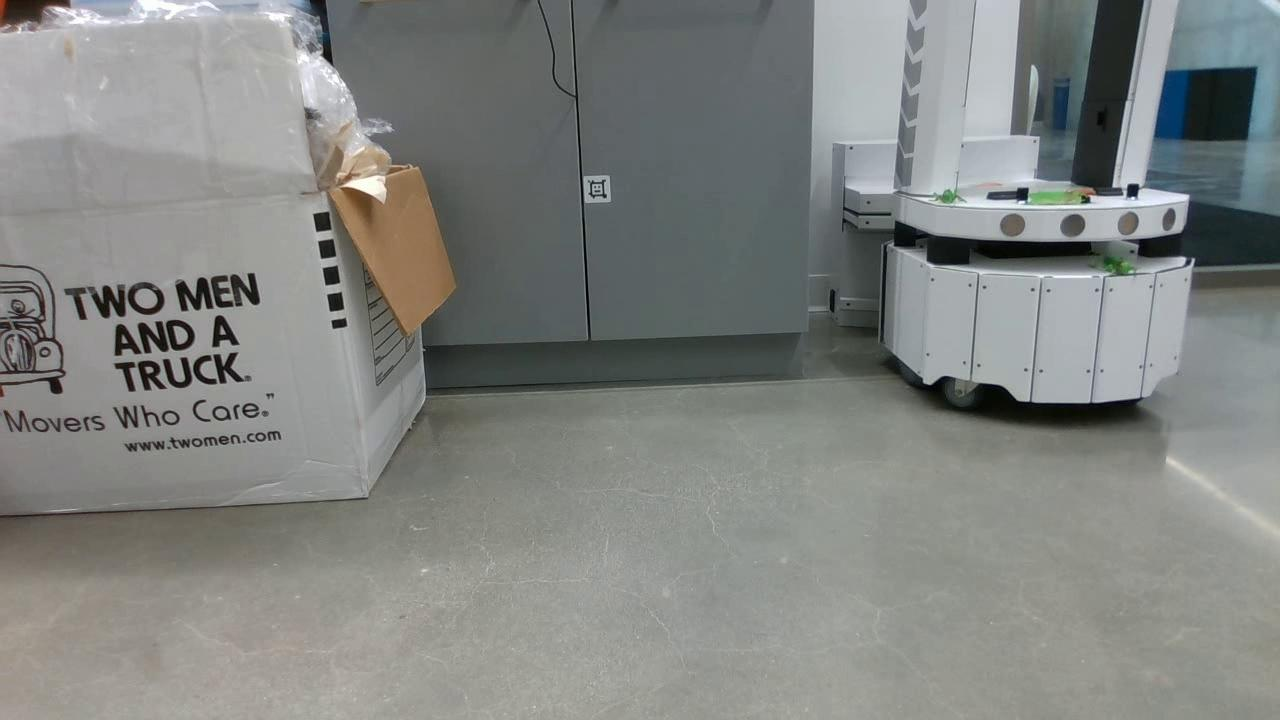grasshopper: (1086, 257, 1135, 277), (924, 187, 967, 204), (1027, 190, 1076, 204)
